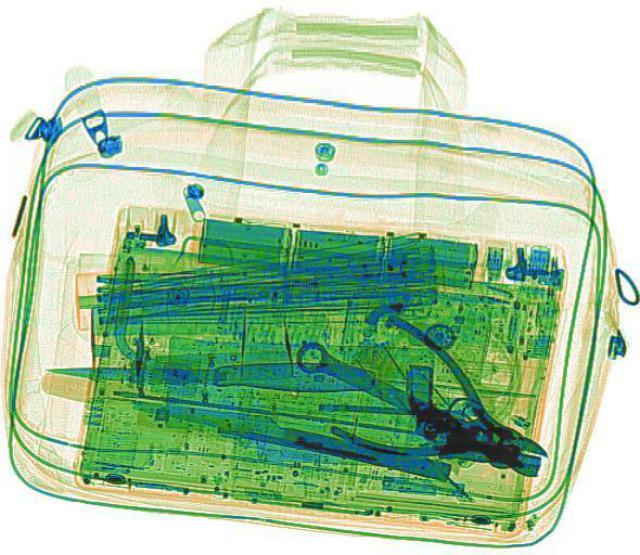Gun: (384, 359, 542, 461)
Knife: (133, 389, 455, 480), (41, 351, 373, 394)
Pliers: (308, 309, 562, 502)
Wrench: (281, 332, 555, 481)
